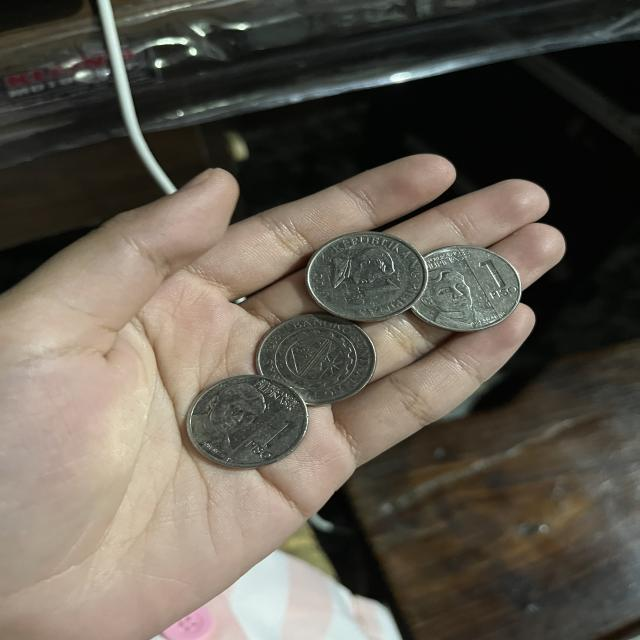1_New_Front: (195, 384, 296, 461), (419, 255, 516, 324)
1_Old_Back: (273, 322, 360, 396)
1_Old_Front: (326, 245, 404, 301)
